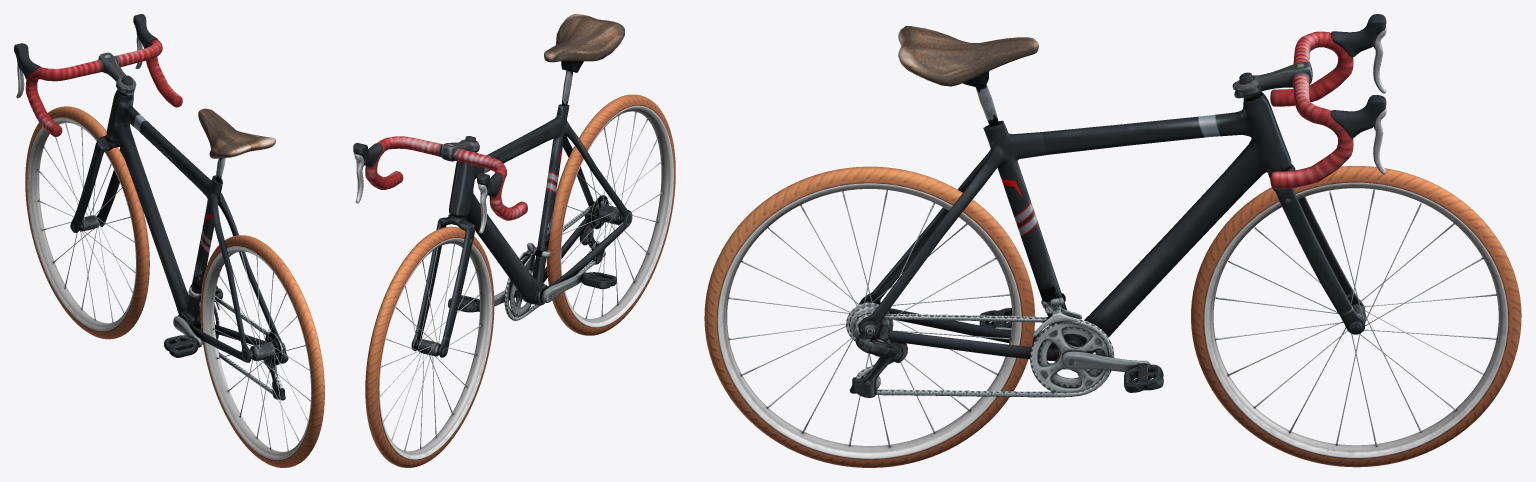
Rendered from bike.glb.
3 renders of one model, left to right at view 1: azimuth 30°, elevation 25°; view 2: azimuth 150°, elevation 25°; view 3: azimuth 270°, elevation 25°, orthographic. The views are drawn at different scales.
Visible parts, largest first — view 1: 10489_bicycle_L2; view 2: 10489_bicycle_L2; view 3: 10489_bicycle_L2.
Boxes of the visible parts, <box> form: 10489_bicycle_L2: <box>14,14,324,467</box>; 10489_bicycle_L2: <box>353,14,675,467</box>; 10489_bicycle_L2: <box>704,14,1521,467</box>.
Bounding box in the file's own units: 50.66 × 114 × 198.
1 material, 1 textured.
